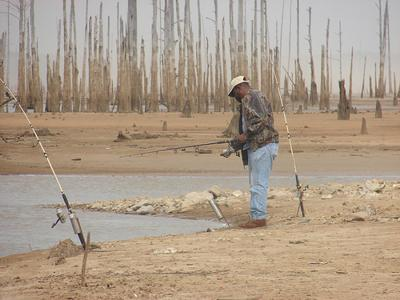person: (221, 76, 279, 230)
